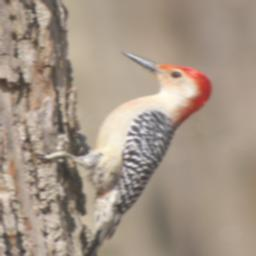Woodpecker: (15, 42, 249, 256)
